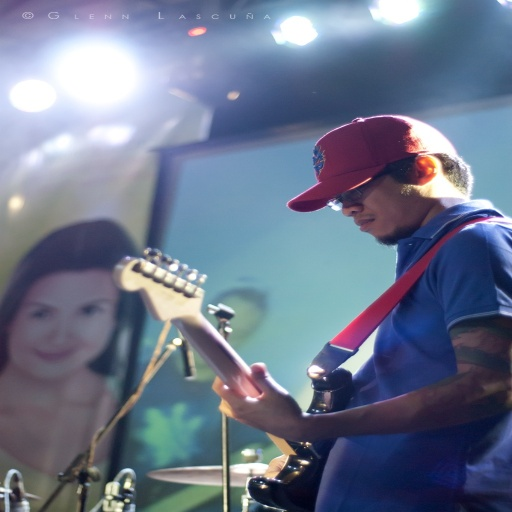hand: (207, 357, 321, 439)
